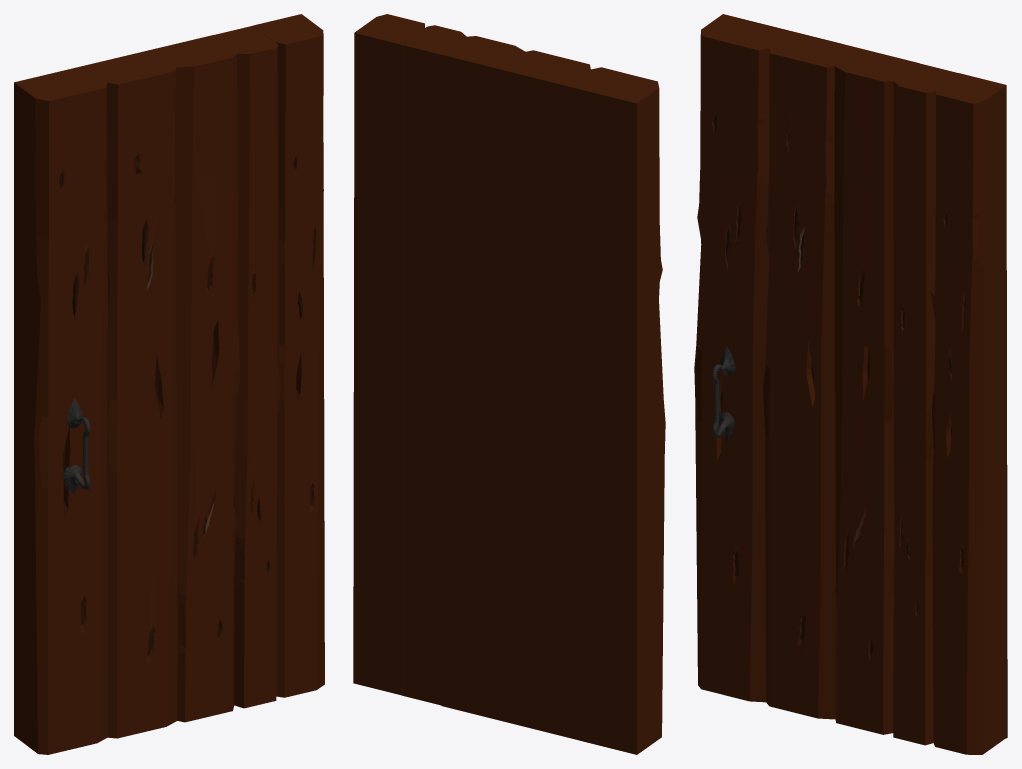
Rendered from laurentPorte.fbx.
3 renders of one model, left to right at view 1: azimuth 30°, elevation 25°; view 2: azimuth 150°, elevation 25°; view 3: azimuth 330°, elevation 25°, orthographic.
Visible parts, largest first — view 1: latte, latte.001, latte.002, latte.004, latte.003, Poignee; view 2: latte, latte.001, latte.002, latte.004, latte.003; view 3: latte.004, latte.001, latte, latte.002, latte.003, Poignee.
Boxes of the visible parts, x1=… form: latte: x1=14, y1=65, x2=108, y2=754; latte.001: x1=86, y1=49, x2=177, y2=738; latte.002: x1=155, y1=35, x2=239, y2=722; latte.004: x1=252, y1=14, x2=324, y2=697; latte.003: x1=213, y1=26, x2=280, y2=708; Poignee: x1=63, y1=398, x2=90, y2=494; latte: x1=567, y1=67, x2=665, y2=754; latte.001: x1=499, y1=50, x2=590, y2=737; latte.002: x1=441, y1=36, x2=525, y2=720; latte.004: x1=353, y1=14, x2=424, y2=695; latte.003: x1=402, y1=25, x2=466, y2=705; latte.004: x1=930, y1=73, x2=1007, y2=754; latte.001: x1=763, y1=32, x2=861, y2=719; latte: x1=694, y1=14, x2=793, y2=702; latte.002: x1=834, y1=49, x2=919, y2=734; latte.003: x1=893, y1=63, x2=957, y2=745; Poignee: x1=711, y1=346, x2=735, y2=441.
Size of the model in its own units: 83.51 by 179 by 21.21.
Materials: 2 (2 with a texture image).
